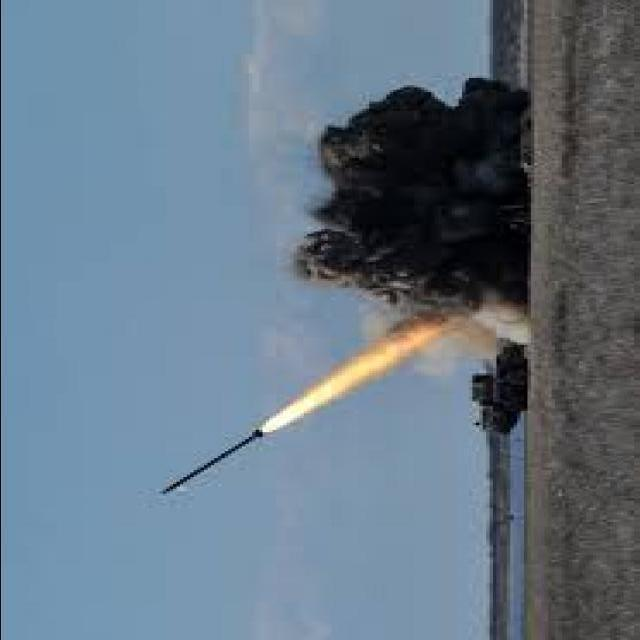missile: (159, 427, 265, 495)
